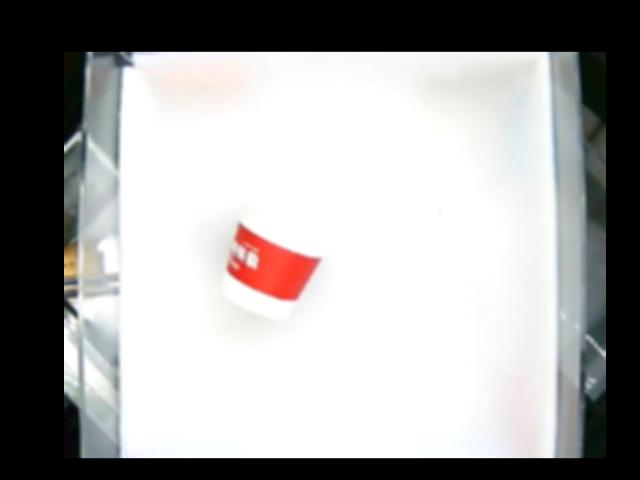Cup: (220, 191, 333, 322)
